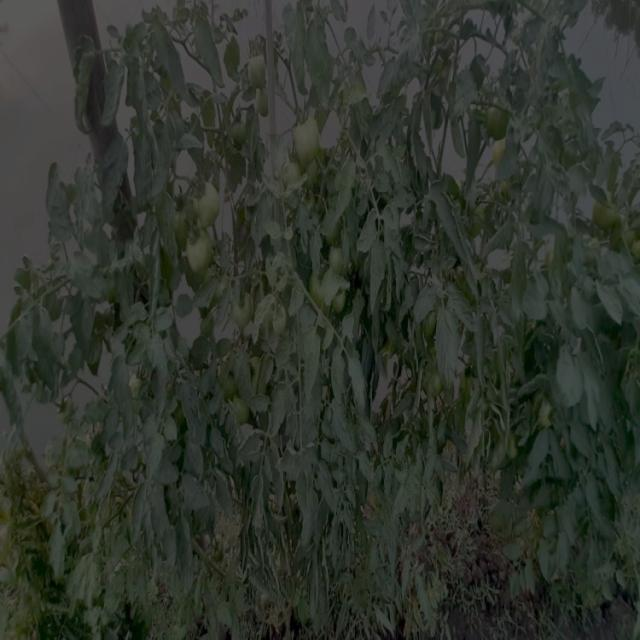tomato: (192, 186, 224, 232), (293, 120, 319, 166), (187, 234, 216, 270), (230, 292, 256, 327), (173, 195, 195, 234), (488, 104, 507, 141), (248, 53, 265, 91), (225, 396, 249, 420), (305, 271, 323, 301), (590, 203, 613, 225), (326, 249, 344, 276), (629, 232, 640, 265), (489, 135, 499, 155)
